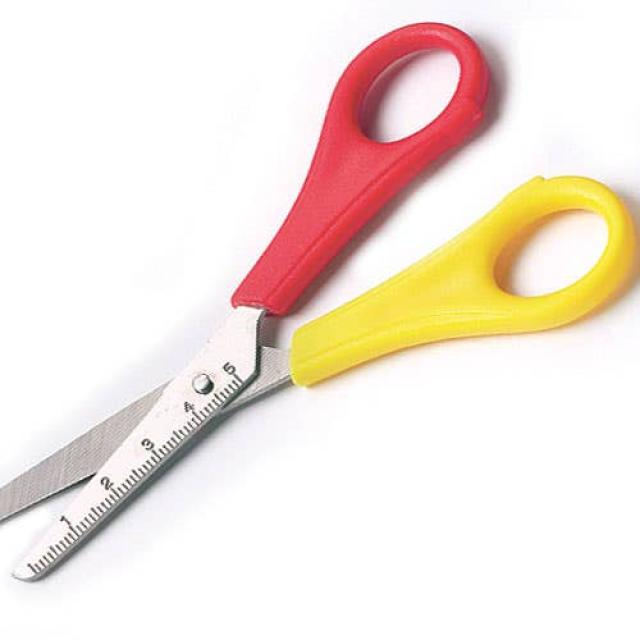scissor: (4, 19, 636, 582)
